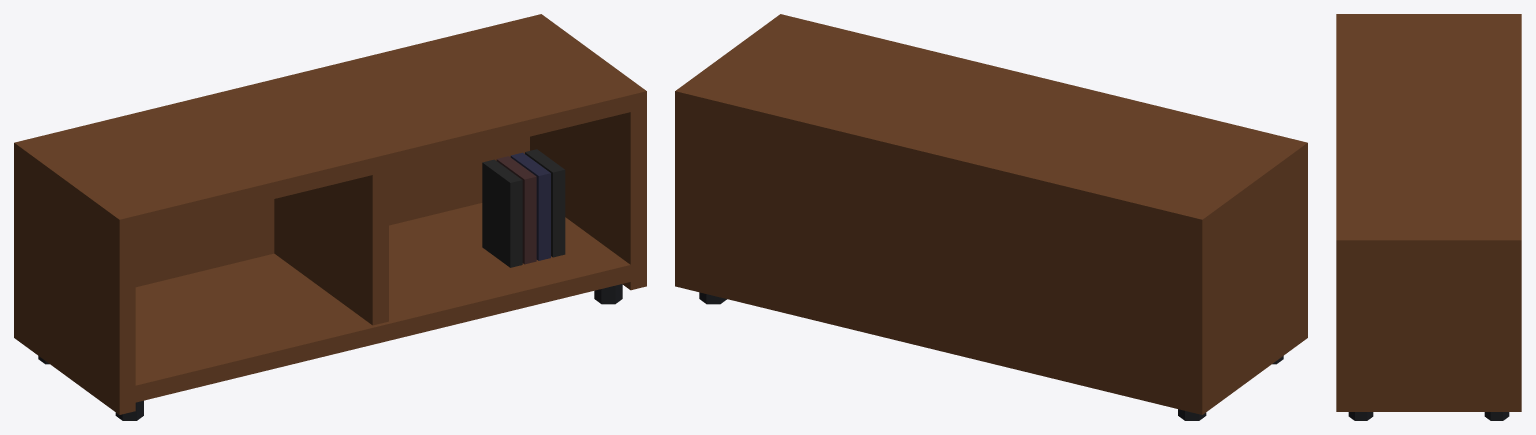
The model's file is tvStand.fbx.
The picture shows the model from 3 angles, left to right: view 1: azimuth 30°, elevation 25°; view 2: azimuth 150°, elevation 25°; view 3: azimuth 270°, elevation 25°; orthographic projection. The views are drawn at different scales.
Parts seen in each view (by area): view 1: tvStand; view 2: tvStand; view 3: tvStand.
Boxes of the visible parts, box(x1,y1,x2,y2) form: tvStand: box(14, 14, 646, 420); tvStand: box(675, 14, 1307, 420); tvStand: box(1336, 14, 1521, 420).
Bounding box in the file's own units: 5.2 × 2 × 1.8.
